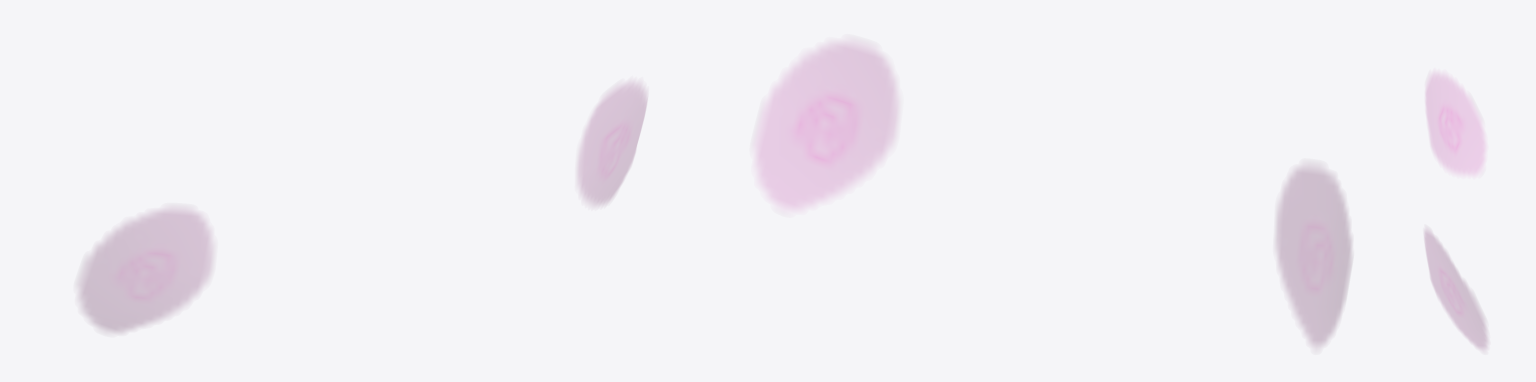
Rendered from Cheeks 7.glb.
3 views of the same model, side by side, from view 1: azimuth 30°, elevation 25°; view 2: azimuth 150°, elevation 25°; view 3: azimuth 270°, elevation 25° (orthographic). The views are drawn at different scales.
Visible parts, largest first — view 1: Cheeks_7; view 2: Cheeks_7; view 3: Cheeks_7.
Part boxes in pixels (x1=…): Cheeks_7: x1=79, y1=82, x2=647, y2=332; Cheeks_7: x1=755, y1=42, x2=1351, y2=346; Cheeks_7: x1=1424, y1=72, x2=1487, y2=349.
Bounding box in the file's own units: 0.00587 × 0.00202 × 0.00121.
Materials: 1 (1 with a texture image).
